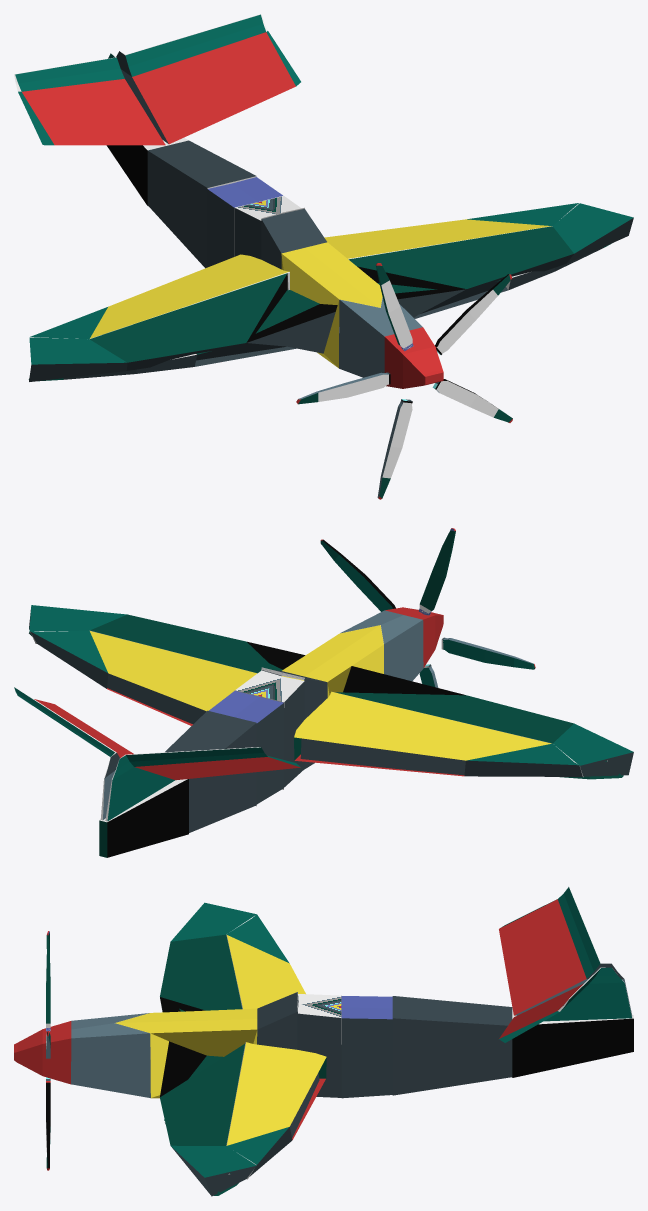
3 views of the same model, one above another, from view 1: azimuth 30°, elevation 25°; view 2: azimuth 150°, elevation 25°; view 3: azimuth 270°, elevation 25° (orthographic). The views are drawn at different scales.
Visible parts, largest first — view 1: Spitfire, propeller; view 2: Spitfire, propeller; view 3: Spitfire, propeller.
Part boxes in pixels (x1,y1,x2,y2): Spitfire: (14,14,633,388); propeller: (296,263,512,499); Spitfire: (14,605,633,857); propeller: (320,528,535,687); Spitfire: (14,886,633,1196); propeller: (46,931,50,1170).
Size of the model in its own units: 4.68 by 1.8 by 4.45.
